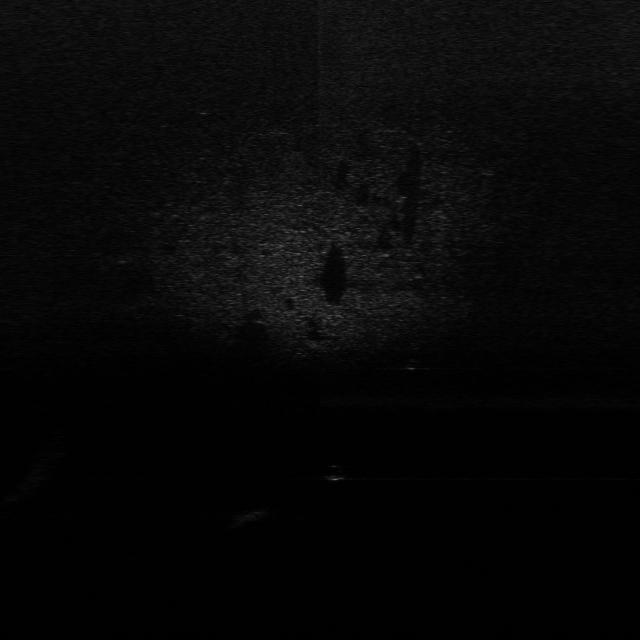ball: (320, 460, 350, 484)
square cage: (222, 506, 273, 525)
tyre: (407, 341, 428, 374)
